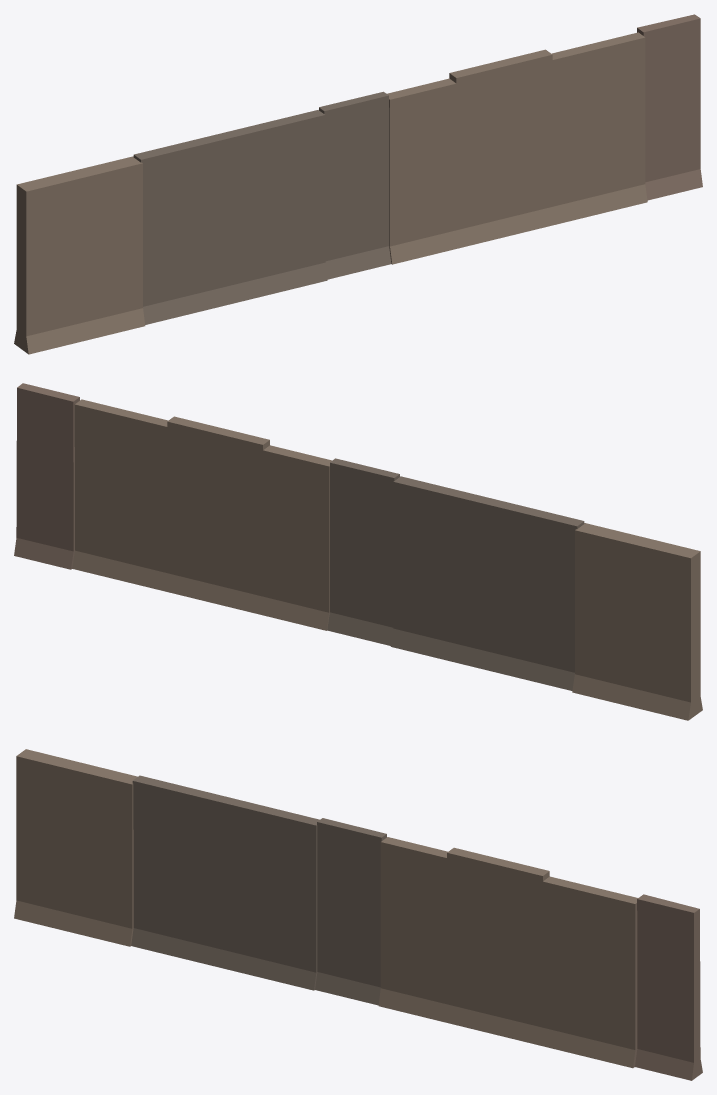
The model's file is wall4.fbx.
The picture shows the model from 3 angles, top to bottom: view 1: azimuth 30°, elevation 25°; view 2: azimuth 150°, elevation 25°; view 3: azimuth 330°, elevation 25°; orthographic projection.
Visible parts, largest first — view 1: wall4; view 2: wall4; view 3: wall4.
Part boxes in pixels (x1,y1,x2,y2): wall4: [14, 14, 702, 354]; wall4: [14, 383, 702, 720]; wall4: [14, 749, 702, 1080].
Bounding box in the file's own units: 1300 × 309 × 48.98.
